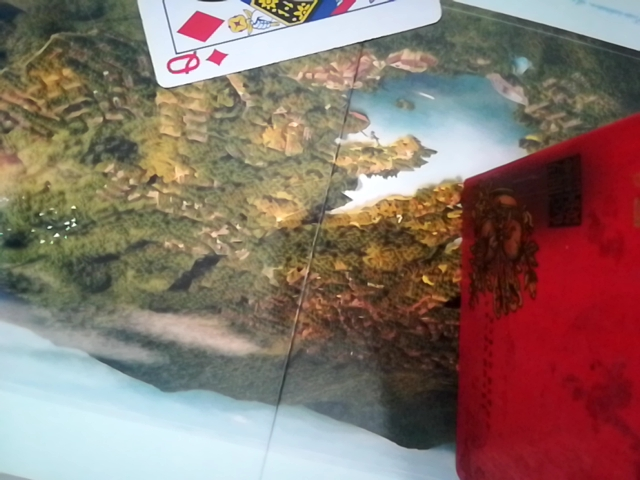fk q: (131, 1, 443, 92)
